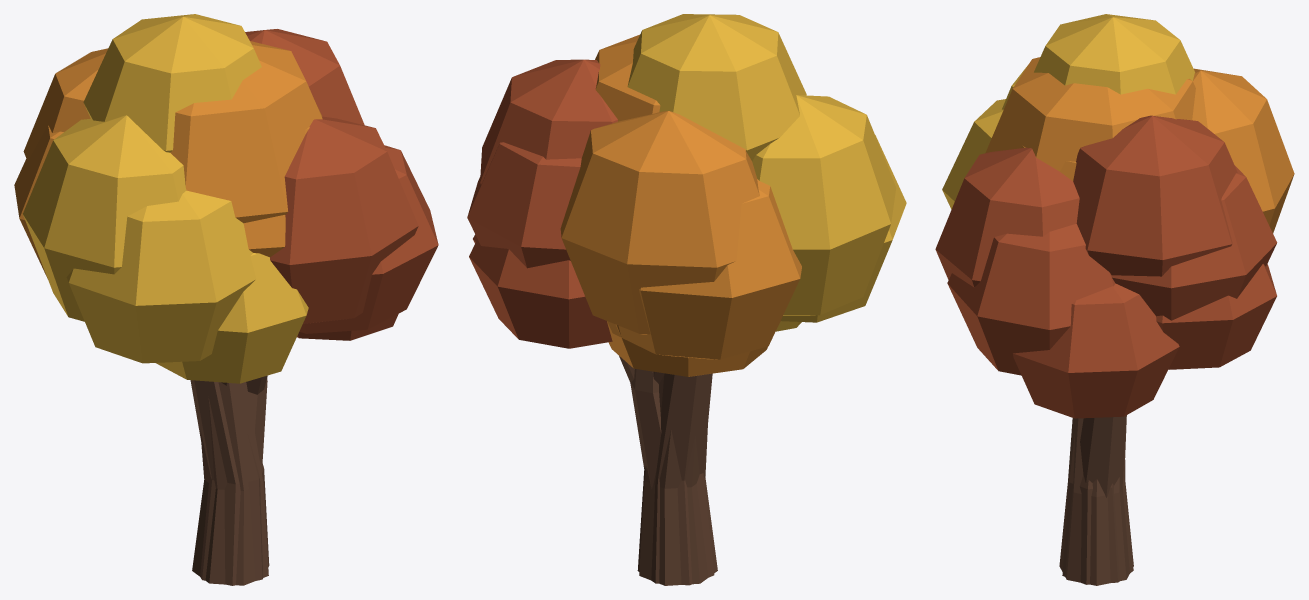
The model's file is tree_oak_autumn.glb.
3 views of the same model, side by side, from view 1: azimuth 30°, elevation 25°; view 2: azimuth 150°, elevation 25°; view 3: azimuth 270°, elevation 25° (orthographic). The views are drawn at different scales.
Parts seen in each view (by area): view 1: Oak_cluster_canopy.001, Oak_cluster_canopy.014, Oak_cluster_canopy.013, Oak_cluster_canopy.012, Oak_cluster_canopy.017, Oak_cluster_canopy.007, Oak_stout_trunk, Oak_stout_trunk.002, Oak_cluster_canopy.002, Oak_cluster_canopy.016, Oak_cluster_canopy.015, Oak_cluster_canopy.003 (+3 smaller); view 2: Oak_cluster_canopy.015, Oak_cluster_canopy.013, Oak_cluster_canopy.017, Oak_cluster_canopy.003, Oak_cluster_canopy.004, Oak_cluster_canopy.016, Oak_cluster_canopy.010, Oak_stout_trunk.002, Oak_stout_trunk, Oak_cluster_canopy.012, Oak_cluster_canopy.009, Oak_stout_trunk.001 (+1 smaller); view 3: Oak_cluster_canopy.016, Oak_cluster_canopy.008, Oak_cluster_canopy.002, Oak_cluster_canopy.014, Oak_cluster_canopy.012, Oak_cluster_canopy.017, Oak_cluster_canopy.004, Oak_cluster_canopy.015, Oak_cluster_canopy.010, Oak_stout_trunk, Oak_stout_trunk.001, Oak_stout_trunk.002 (+1 smaller).
Boxes of the visible parts, <box> form: Oak_cluster_canopy.001: <box>66,190,256,363</box>; Oak_cluster_canopy.014: <box>270,116,418,323</box>; Oak_cluster_canopy.013: <box>23,115,186,321</box>; Oak_cluster_canopy.012: <box>170,41,322,223</box>; Oak_cluster_canopy.017: <box>83,14,261,152</box>; Oak_cluster_canopy.007: <box>156,253,308,383</box>; Oak_stout_trunk: <box>192,382,268,585</box>; Oak_stout_trunk.002: <box>190,380,269,585</box>; Oak_cluster_canopy.002: <box>299,145,438,333</box>; Oak_cluster_canopy.016: <box>245,29,364,125</box>; Oak_cluster_canopy.015: <box>23,48,107,161</box>; Oak_cluster_canopy.003: <box>14,125,63,277</box>; Oak_cluster_canopy.015: <box>560,111,759,334</box>; Oak_cluster_canopy.013: <box>752,95,896,315</box>; Oak_cluster_canopy.017: <box>627,14,806,161</box>; Oak_cluster_canopy.003: <box>607,179,801,359</box>; Oak_cluster_canopy.004: <box>467,142,581,268</box>; Oak_cluster_canopy.016: <box>480,59,617,184</box>; Oak_cluster_canopy.010: <box>469,239,612,348</box>; Oak_stout_trunk.002: <box>637,373,714,585</box>; Oak_stout_trunk: <box>639,375,717,585</box>; Oak_cluster_canopy.012: <box>595,34,660,121</box>; Oak_cluster_canopy.009: <box>607,321,780,376</box>; Oak_stout_trunk.001: <box>630,369,661,488</box>; Oak_cluster_canopy.016: <box>1073,115,1237,276</box>; Oak_cluster_canopy.008: <box>1013,283,1179,418</box>; Oak_cluster_canopy.002: <box>947,223,1115,375</box>; Oak_cluster_canopy.014: <box>935,147,1079,287</box>; Oak_cluster_canopy.012: <box>985,57,1195,171</box>; Oak_cluster_canopy.017: <box>1034,14,1195,94</box>; Oak_cluster_canopy.004: <box>1111,165,1277,320</box>; Oak_cluster_canopy.015: <box>1192,68,1294,233</box>; Oak_cluster_canopy.010: <box>1156,264,1276,369</box>; Oak_stout_trunk: <box>1059,418,1133,585</box>; Oak_stout_trunk.001: <box>1080,415,1126,497</box>; Oak_stout_trunk.002: <box>1062,415,1133,584</box>.
Bounding box in the file's own units: 2.43 × 3.39 × 2.07.
